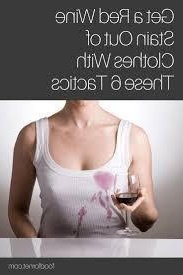wine: (66, 199, 93, 235), (95, 190, 115, 226), (90, 170, 121, 193)
